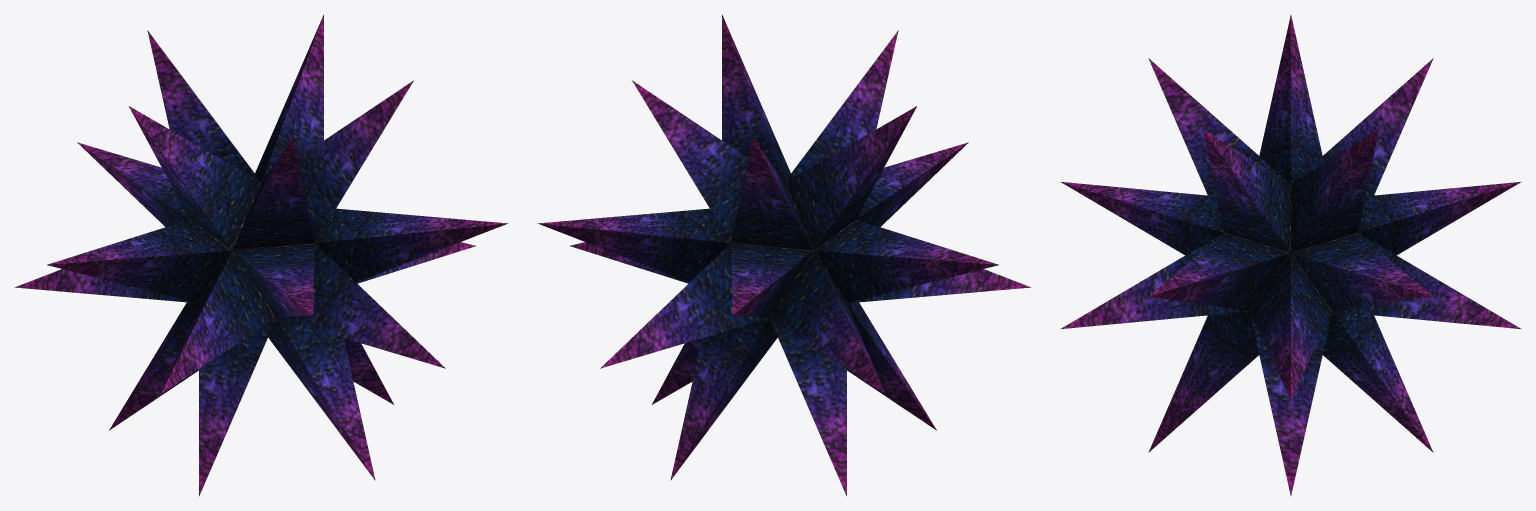
File: bcurch01.FBX
3 renders of one model, left to right at view 1: azimuth 30°, elevation 25°; view 2: azimuth 150°, elevation 25°; view 3: azimuth 270°, elevation 25°, orthographic. The views are drawn at different scales.
Parts seen in each view (by area): view 1: bcurch01; view 2: bcurch01; view 3: bcurch01.
Boxes of the visible parts, box(x1,y1,x2,y2) form: bcurch01: box(14, 14, 508, 496); bcurch01: box(537, 14, 1031, 496); bcurch01: box(1060, 15, 1521, 495).
Size of the model in its own units: 9.33 by 8.87 by 7.55.
